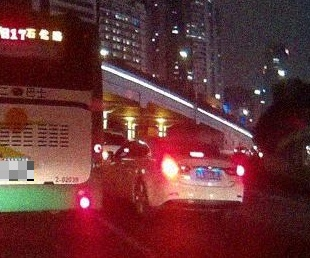L_light: (160, 154, 181, 183)
R_light: (235, 164, 245, 181)
T_light: (189, 151, 205, 158)
night-left: (144, 137, 245, 218)
plate_1: (0, 161, 34, 181)
